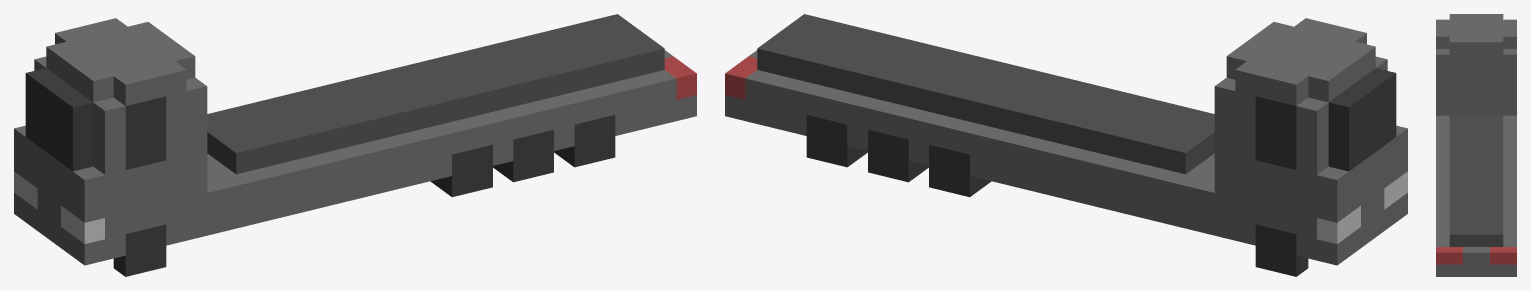
Rendered from truck-v3-grey.gltf.
The picture shows the model from 3 angles, left to right: view 1: azimuth 30°, elevation 25°; view 2: azimuth 150°, elevation 25°; view 3: azimuth 270°, elevation 25°; orthographic projection. The views are drawn at different scales.
Parts seen in each view (by area): view 1: model, wheels; view 2: model, wheels; view 3: model.
Boxes of the visible parts, left/top/right/bottom form: model: left=14, top=14, right=696, bottom=265; wheels: left=113, top=115, right=615, bottom=276; model: left=725, top=14, right=1407, bottom=265; wheels: left=806, top=115, right=1308, bottom=276; model: left=1436, top=14, right=1516, bottom=276.
Size of the model in its own units: 3 by 0.9 by 0.6.
Materials: 2 (2 with a texture image).
